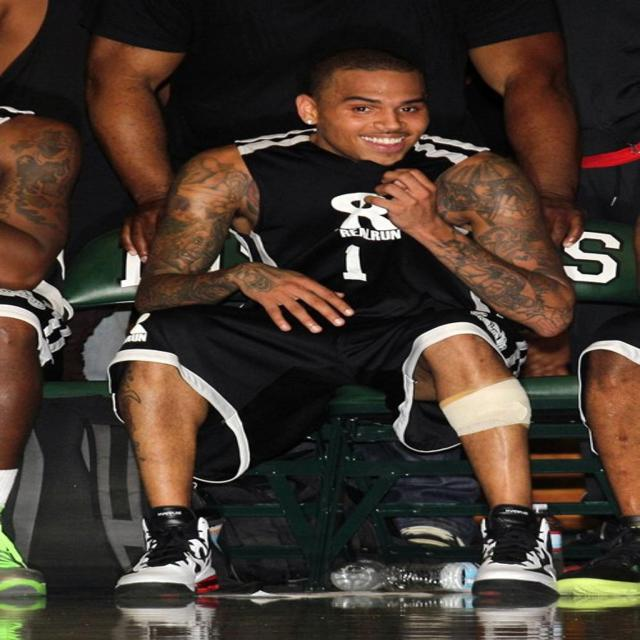Face: (314, 68, 437, 163)
